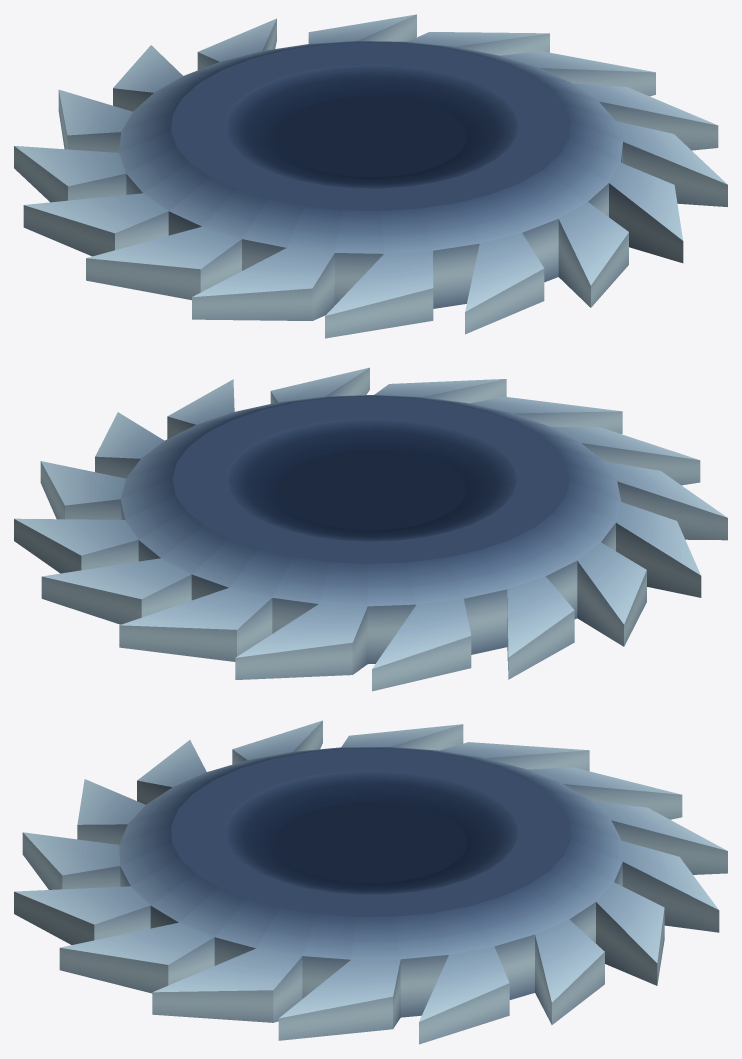
The model's file is Saw.fbx.
The picture shows the model from 3 angles, top to bottom: view 1: azimuth 30°, elevation 25°; view 2: azimuth 150°, elevation 25°; view 3: azimuth 270°, elevation 25°; orthographic projection.
Parts seen in each view (by area): view 1: Saw; view 2: Saw; view 3: Saw.
Part boxes in pixels (x1,y1,x2,y2): Saw: (14, 14, 727, 338); Saw: (14, 367, 727, 691); Saw: (14, 720, 727, 1044).
Size of the model in its own units: 576 by 88.87 by 576.
